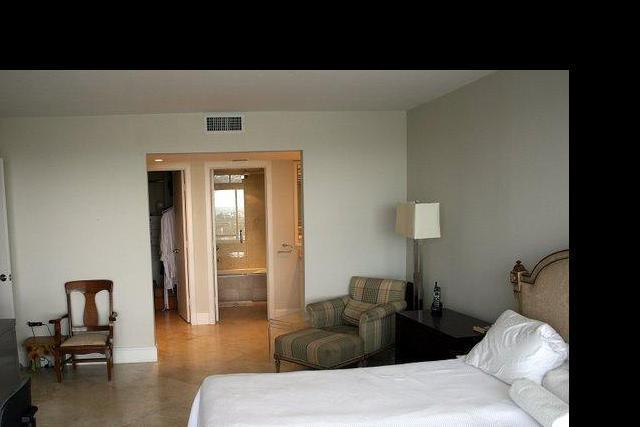Puerta: (0, 153, 7, 318)
